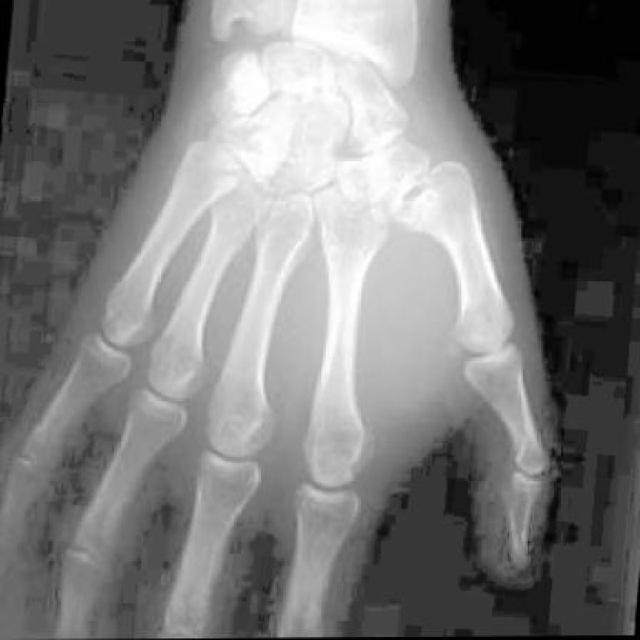Fracture: (391, 157, 477, 246)
